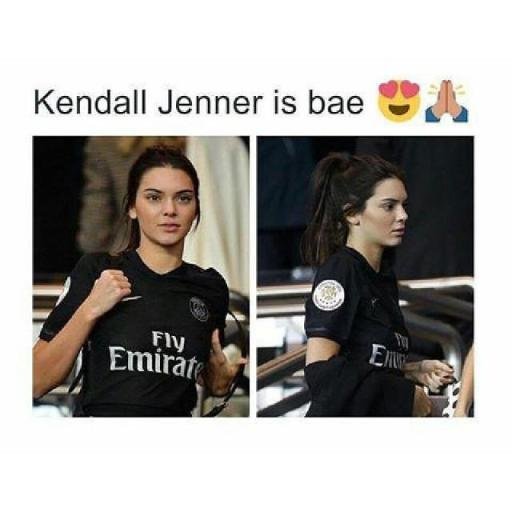Emirates: (104, 328, 204, 382)
